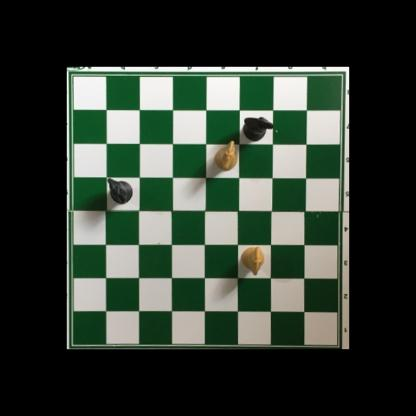black-knight: (241, 114, 275, 141), (106, 177, 134, 205)
white-knight: (213, 140, 241, 171), (241, 246, 265, 277)
